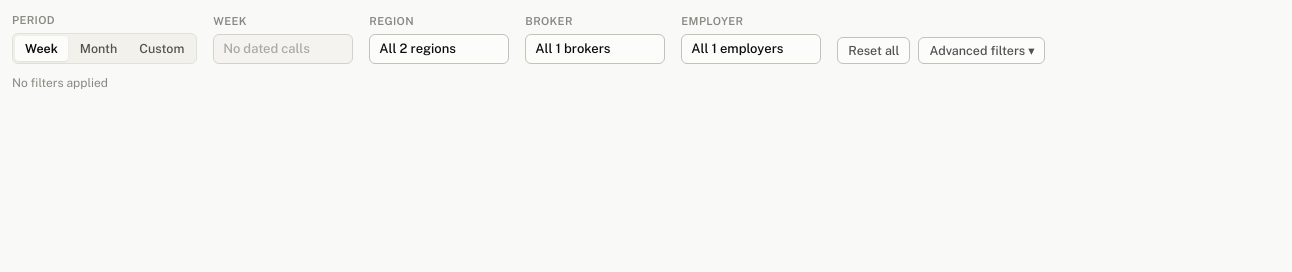
Test: FilterBar › distinguishes a flag set to no from a flag left unset
Click the button "Advanced filters ▾": (982, 50) [918,36,1045,64]
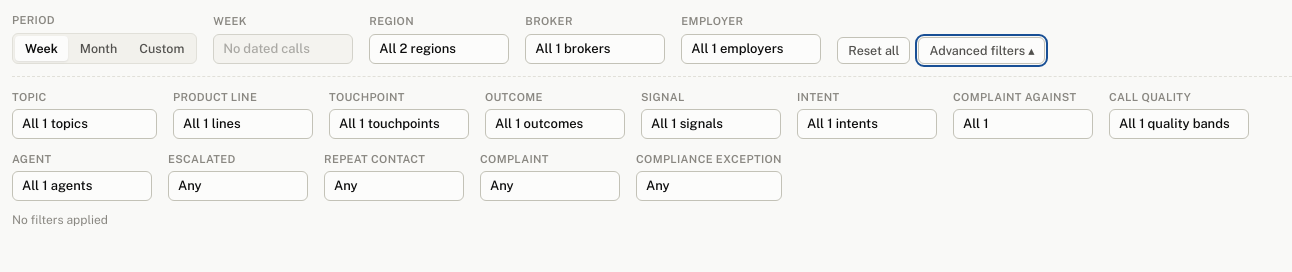
Select "No" in the dropdown labelled "Escalated": (238, 186) [168,171,308,201]
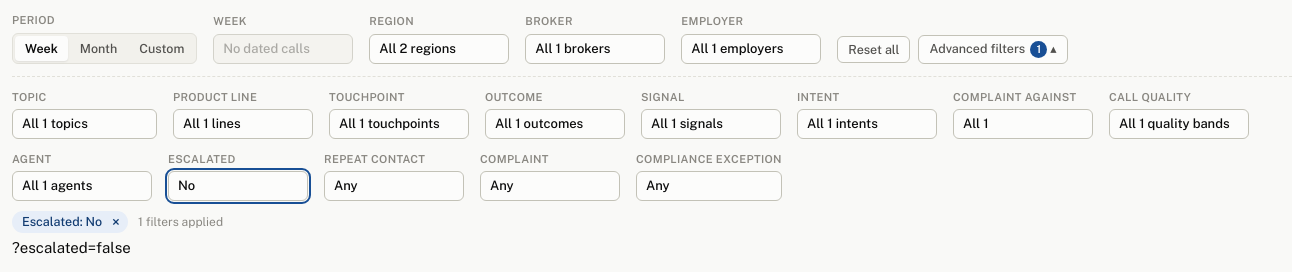
Result: the text with test id "address" shows "escalated=false" at [12,239,131,256]
